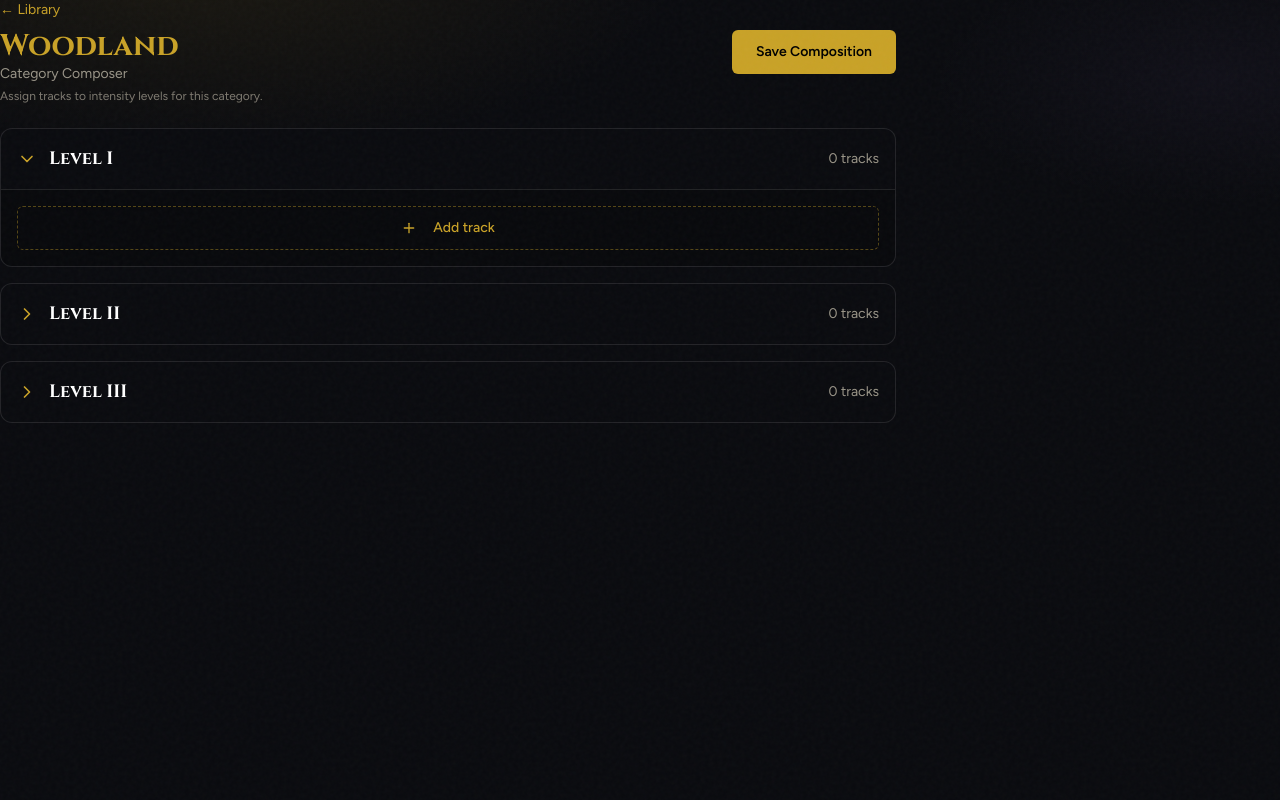
Test case: CategoryComposerPage track picker › excludes soft-deleted tracks from the Track Picker grid
The width and height of the screenshot is (1280, 800).
Step 1. Click the button "Add track" → (448, 228), box x1=17 y1=206 x2=879 y2=250
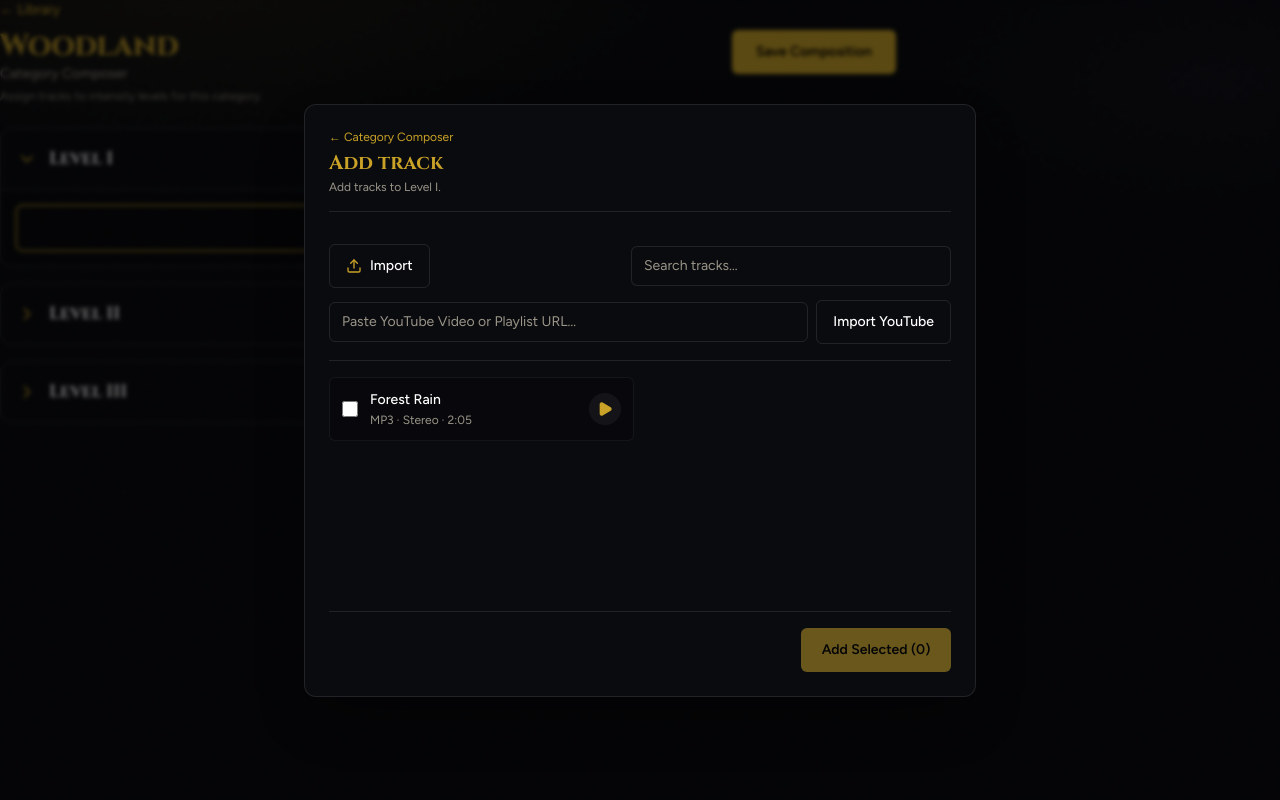
Check: the text "Forest Rain" is shown, box x1=370 y1=390 x2=441 y2=410
